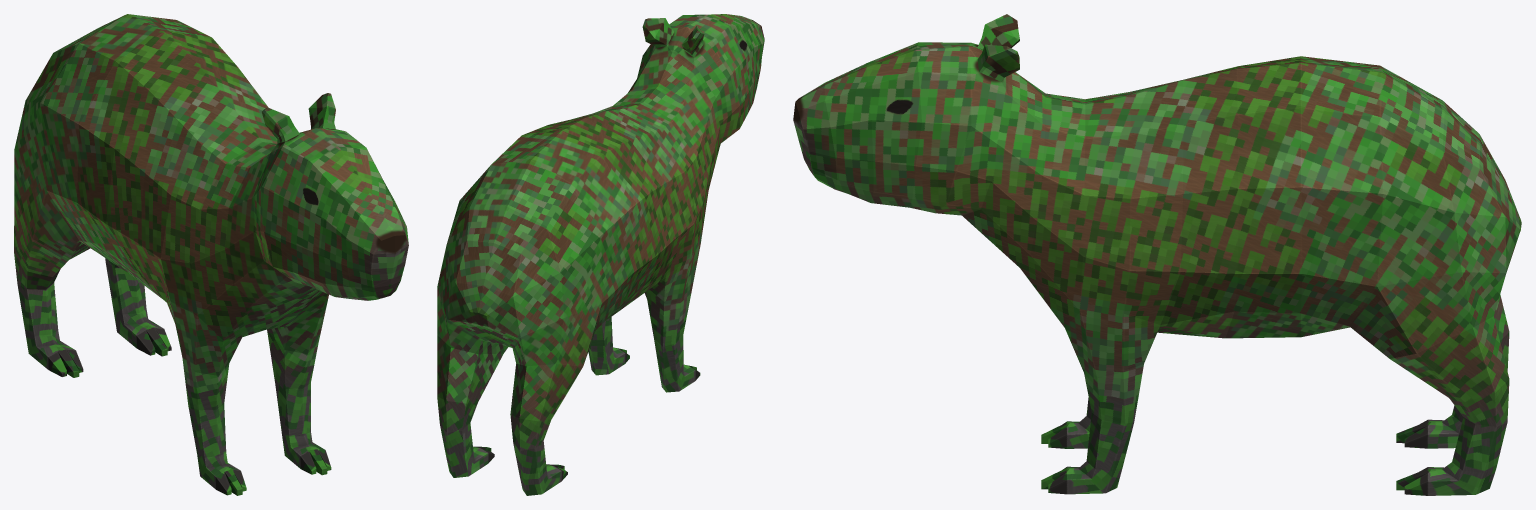
File: carpincho_bomb.glb
The picture shows the model from 3 angles, left to right: view 1: azimuth 30°, elevation 25°; view 2: azimuth 150°, elevation 25°; view 3: azimuth 270°, elevation 25°; orthographic projection. The views are drawn at different scales.
Parts seen in each view (by area): view 1: Capybara_mesh; view 2: Capybara_mesh; view 3: Capybara_mesh.
Part boxes in pixels (<box>): Capybara_mesh: <box>14,14,408,495</box>; Capybara_mesh: <box>437,14,764,495</box>; Capybara_mesh: <box>793,14,1521,495</box>.
Bounding box in the file's own units: 2.16 × 4.72 × 7.16.
1 material, 1 textured.
